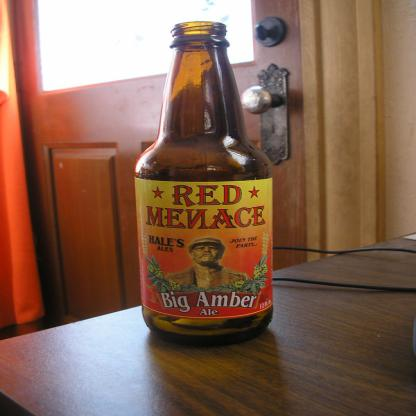drinking: (135, 21, 273, 346)
